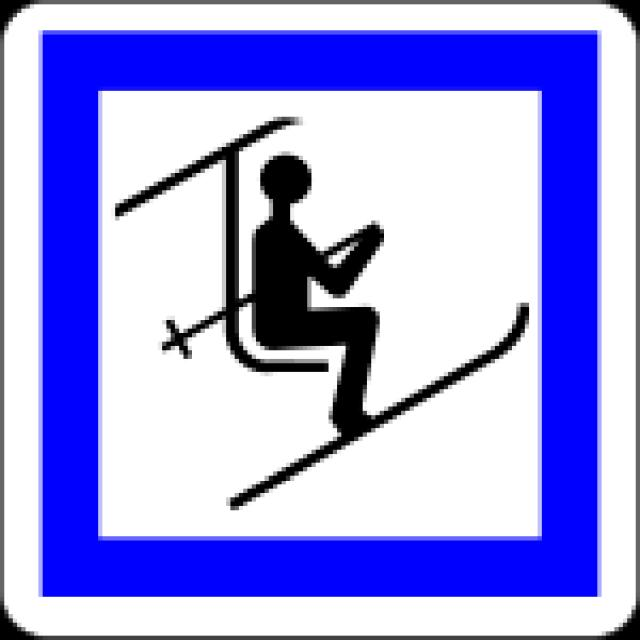indication: (4, 0, 640, 636)
